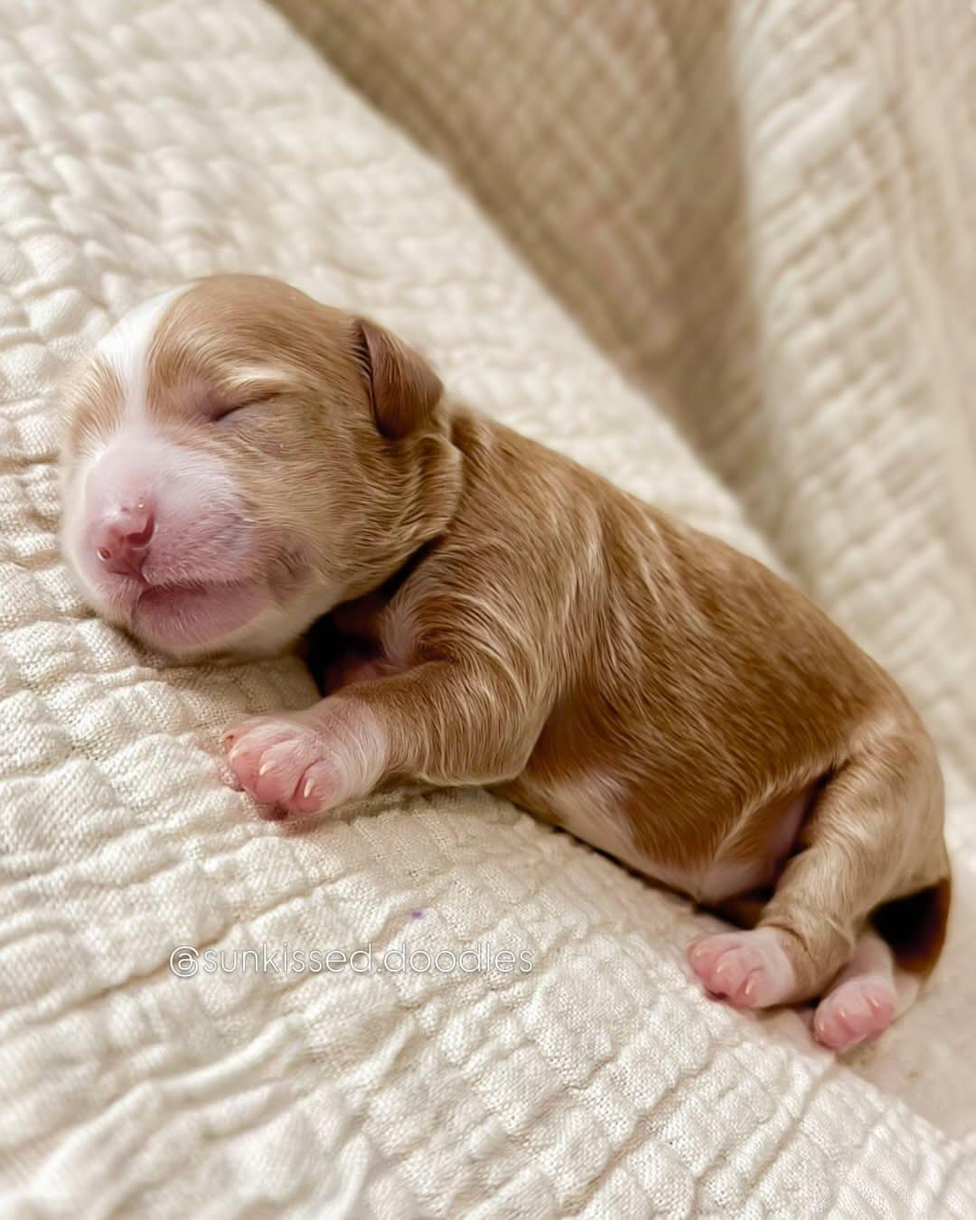puppy-dog: (52, 271, 955, 1056)
